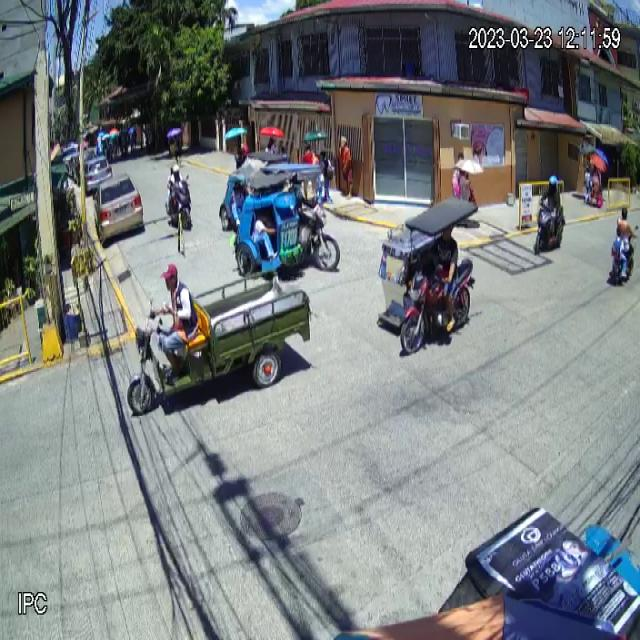Tricycle: (375, 198, 484, 358), (231, 161, 342, 288)
